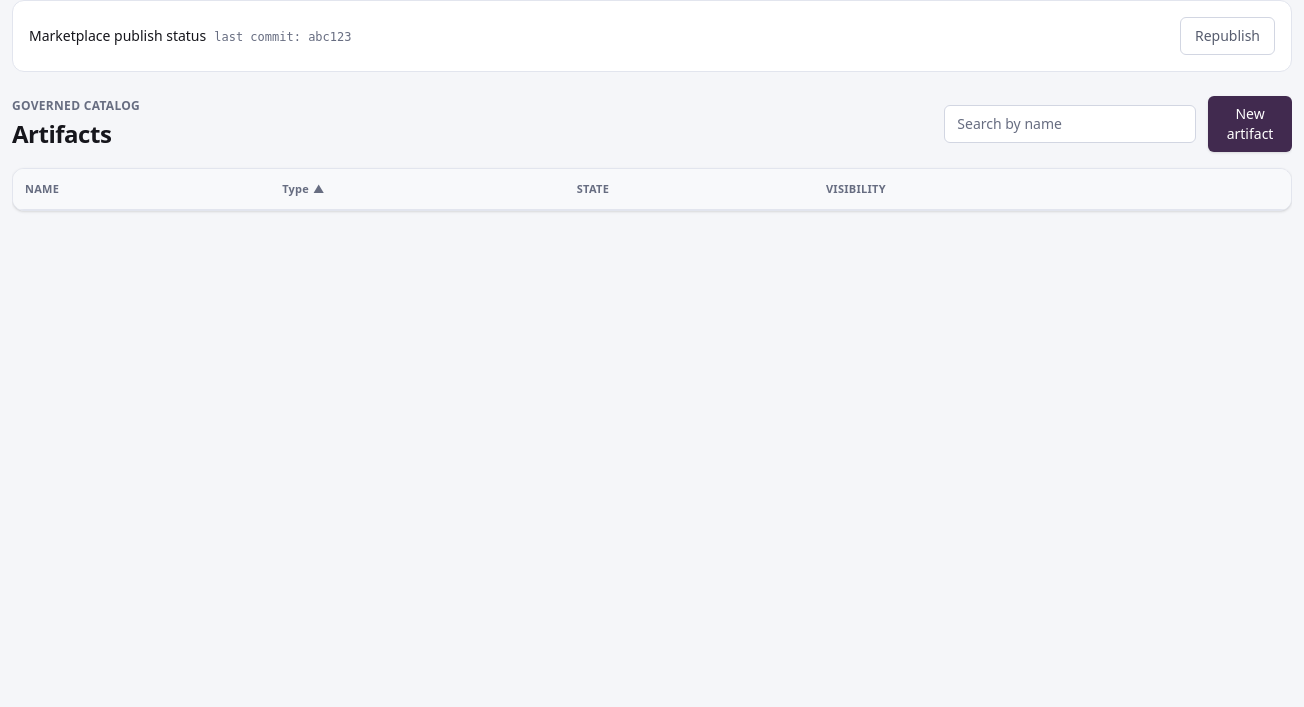
Test: create: content hint switches with the type — rule warns against frontmatter
Step 1. Click the button "New artifact" → (1250, 124), box [1208,96,1292,152]
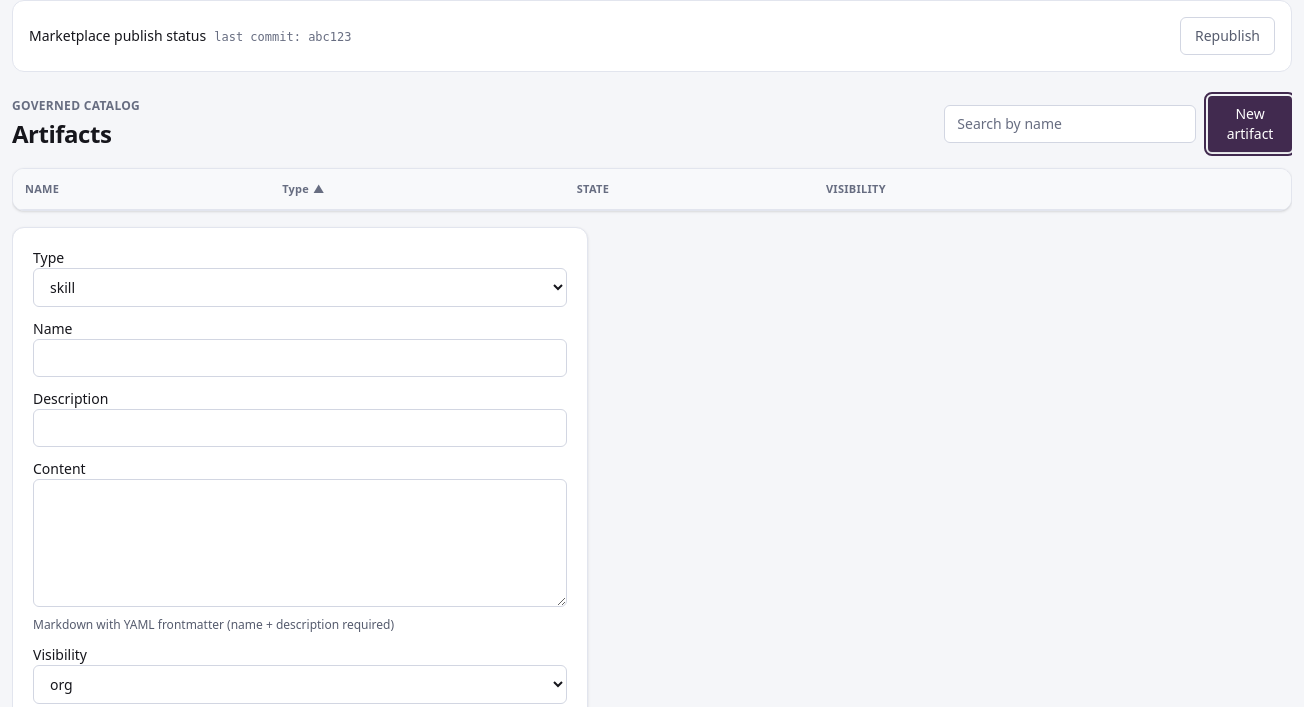
Expected: the text "Markdown with YAML frontmatter (name + description required)" is shown, [33,616,394,633]
rule must NOT be told to write frontmatter — it is delivered verbatim into AGENTS.md
Step 2. Select "rule" in the dropdown labelled "Type" → (300, 287), box [33,268,567,307]
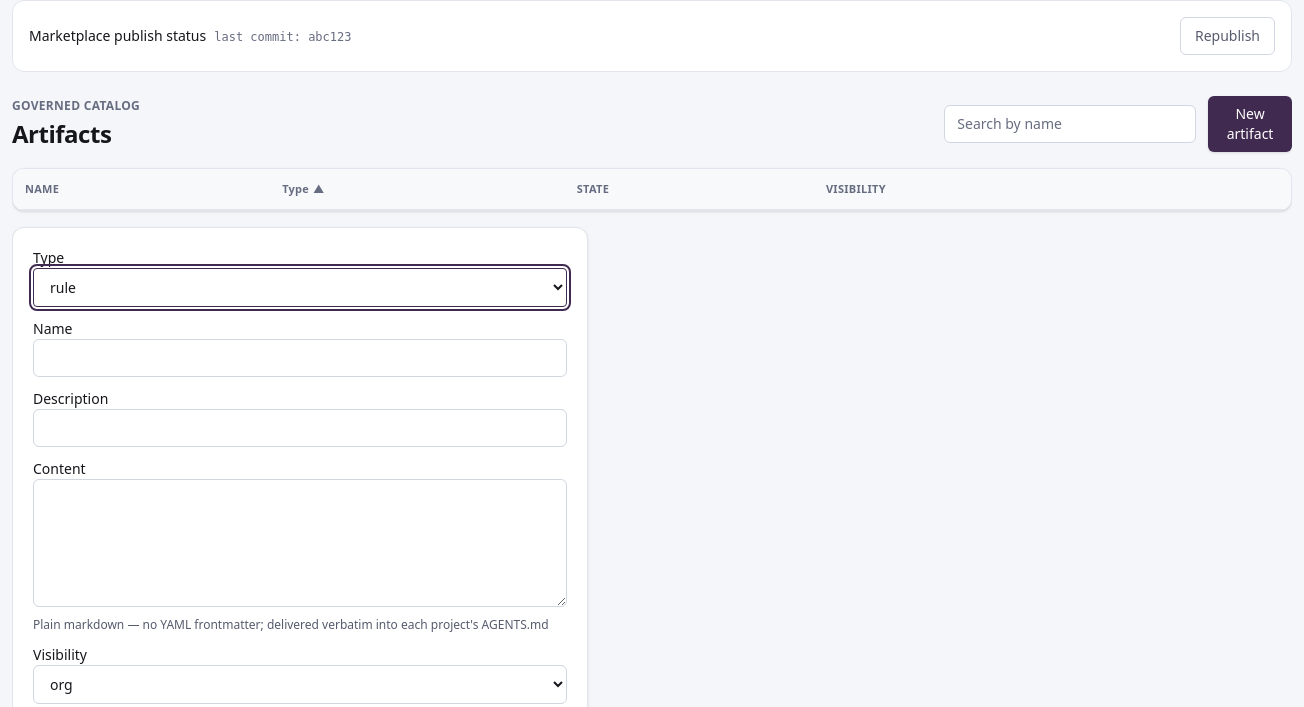
Expected: the text "Markdown with YAML frontmatter" is gone
Expected: the text "AGENTS.md" is shown, [33,616,549,633]
switching back restores the skill/subagent hint
Step 3. Select "subagent" in the dropdown labelled "Type" → (300, 287), box [33,268,567,307]
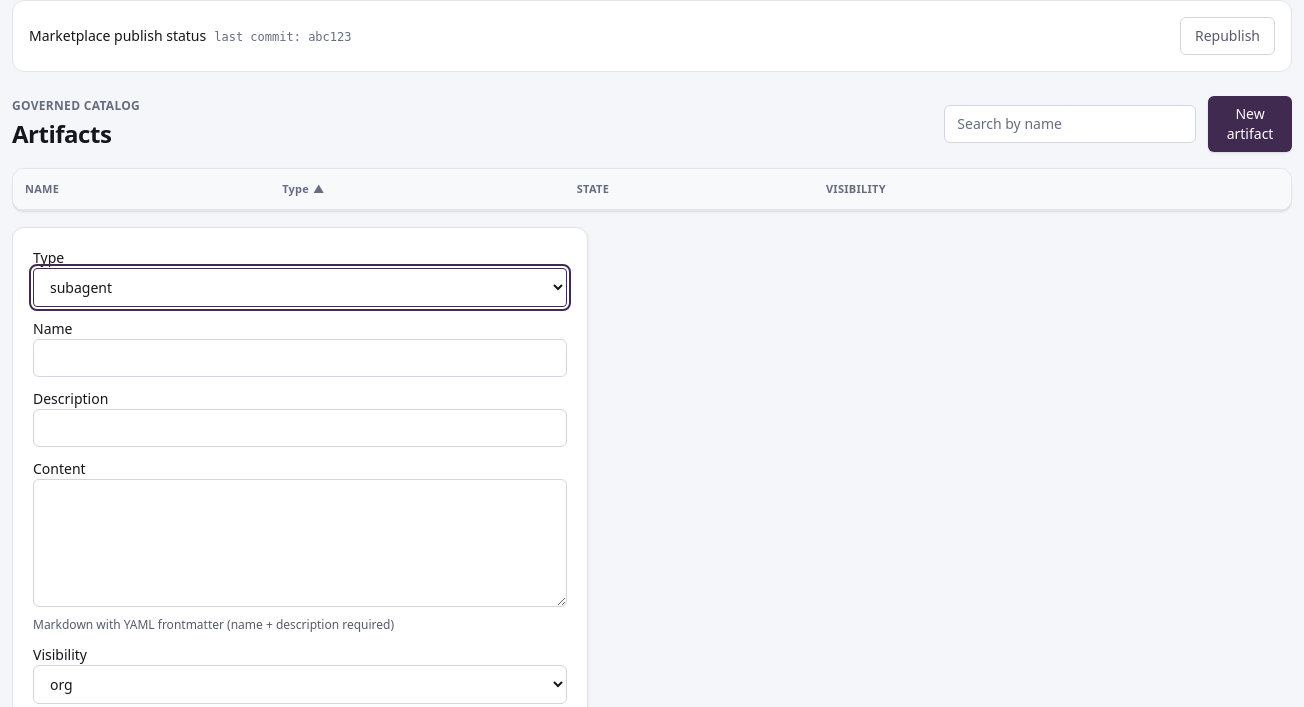
Expected: the text "Markdown with YAML frontmatter (name + description required)" is shown, [33,616,394,633]
